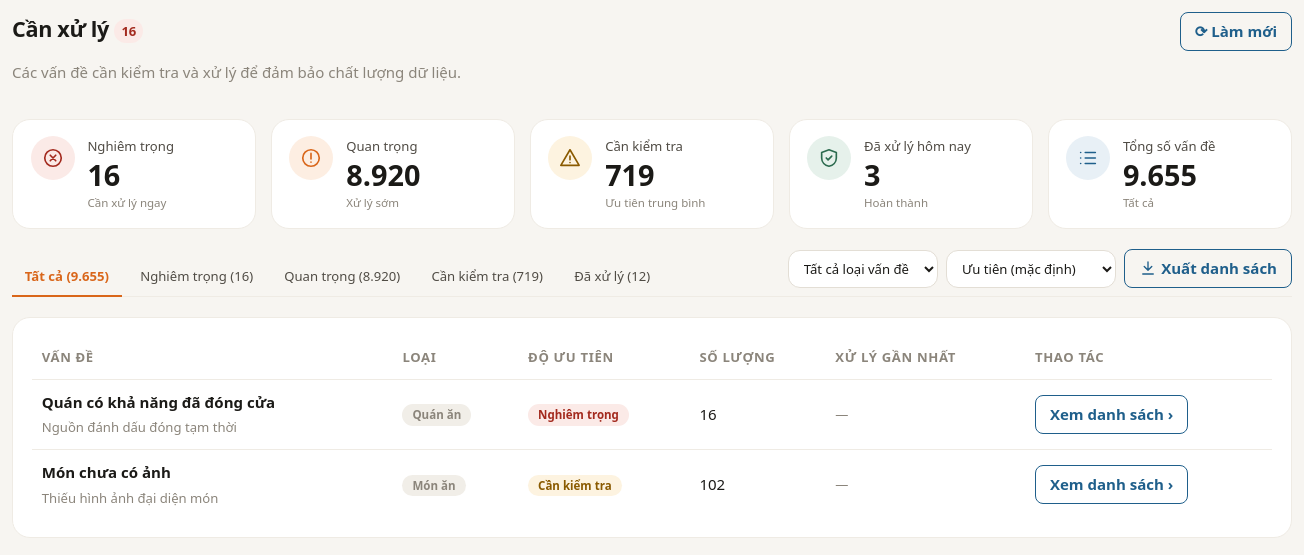
Test: Man "Can xu ly" - phan bo sung › loc theo loai van de chi con nhom dung loai
The image size is (1304, 555).
Check: the text "Quán có khả năng đã đóng cửa" is shown, box [42,392,275,412]
Select "Món ăn" in the dropdown named "Lọc theo loại vấn đề" at (863, 269), box [788,250,938,288]
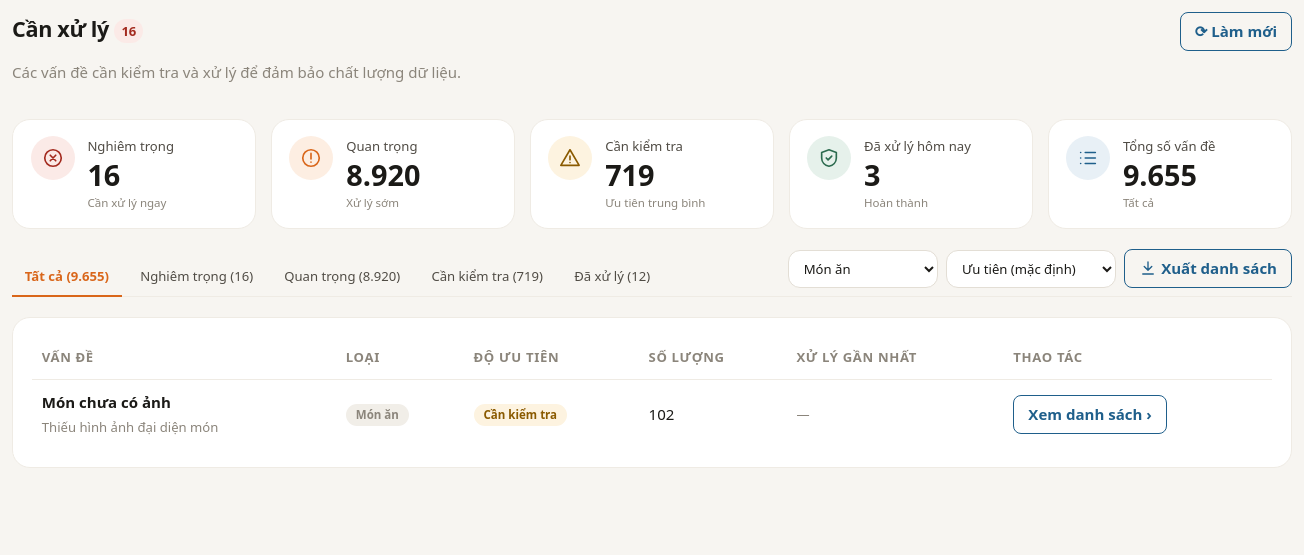
Check: the text "Món chưa có ảnh" is shown, box [42,392,171,412]
Check: the text "Quán có khả năng đã đóng cửa" is gone
